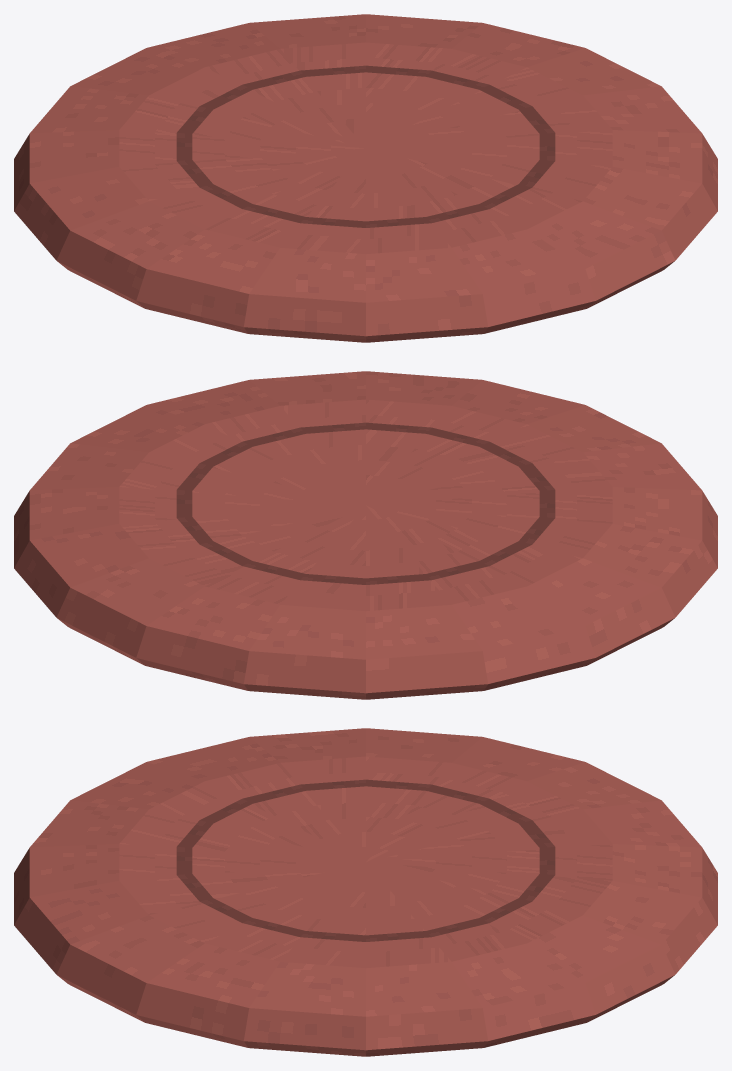
Rendered from disc_golf.glb.
The picture shows the model from 3 angles, top to bottom: view 1: azimuth 30°, elevation 25°; view 2: azimuth 150°, elevation 25°; view 3: azimuth 270°, elevation 25°; orthographic projection.
Parts seen in each view (by area): view 1: block_dense flying disc; view 2: block_dense flying disc; view 3: block_dense flying disc.
Part boxes in pixels (x1,y1,x2,y2): block_dense flying disc: (14, 14, 717, 342); block_dense flying disc: (14, 371, 717, 699); block_dense flying disc: (14, 728, 717, 1056).
Size of the model in its own units: 0.214 by 0.0232 by 0.2107.
Materials: 1 (1 with a texture image).
